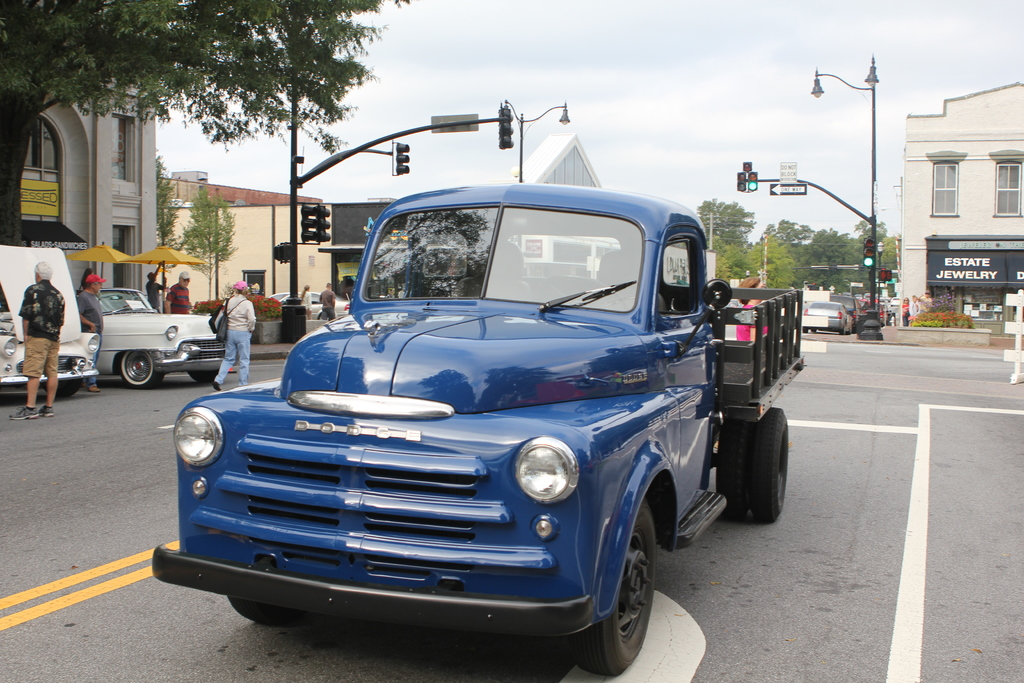mobil: (162, 205, 823, 683)
